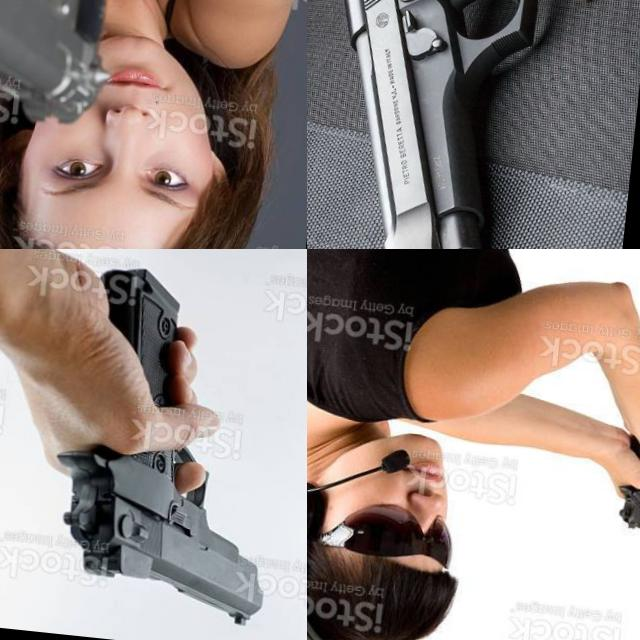handgun: (35, 254, 299, 632), (307, 0, 640, 249), (0, 0, 136, 142), (609, 426, 640, 569)
